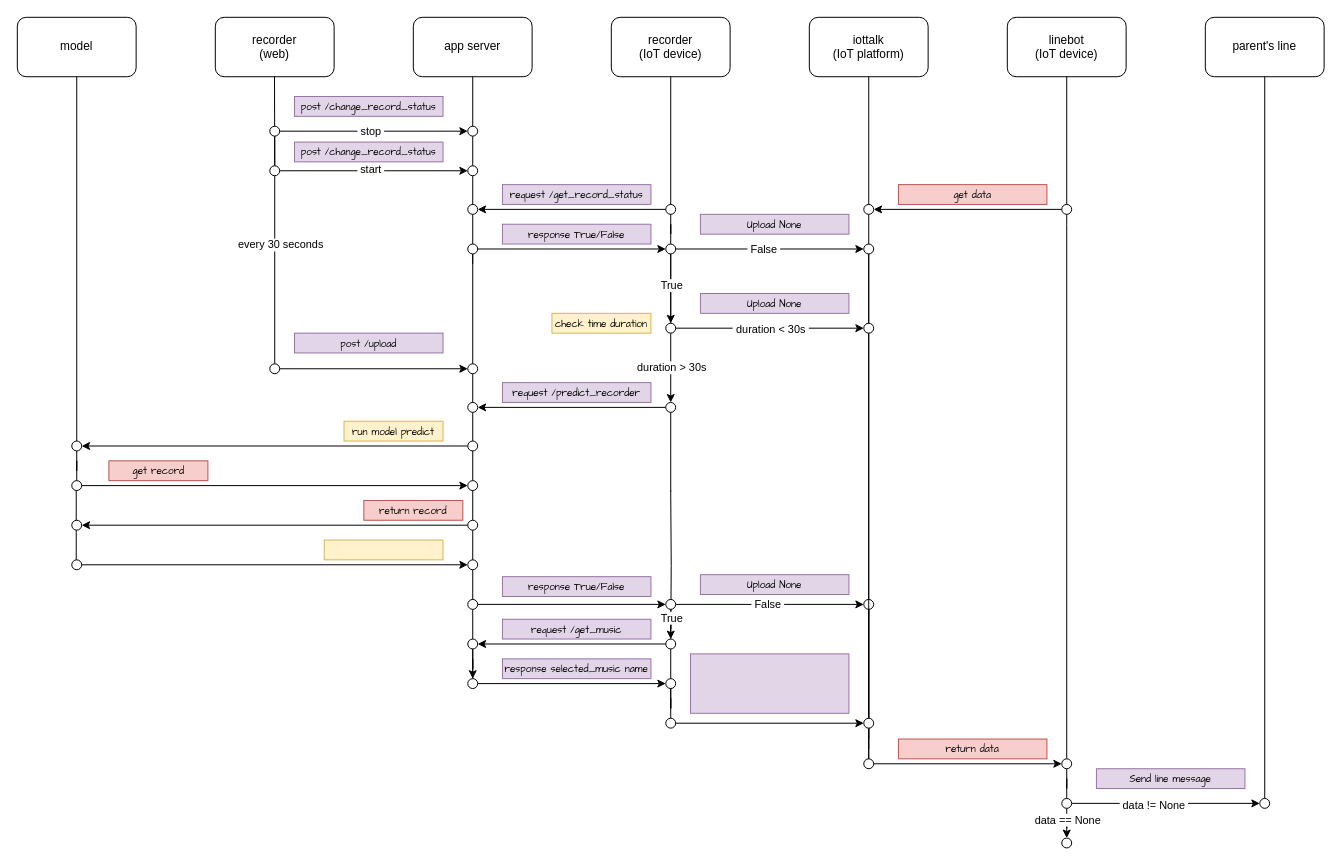
The diagram is 1341 pixels wide and 865 high, and some of its shapes have lost their labels. Each missing label, with the centre of its shape:
generate model predict: (383,549)
upload json {"baby_id": device_id, "selected_music": selected_music}: (769,683)
